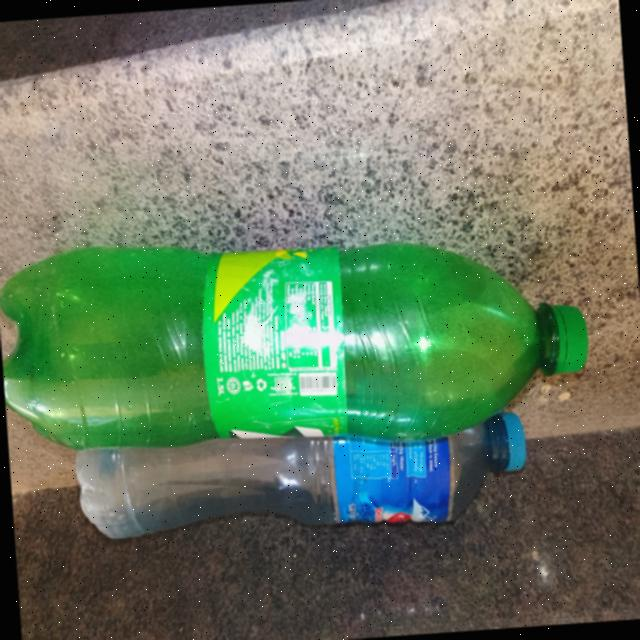bottle: (0, 193, 611, 469), (39, 409, 544, 566)
cap: (546, 293, 592, 381), (496, 416, 528, 475)
label: (192, 239, 356, 452), (323, 435, 459, 536)
